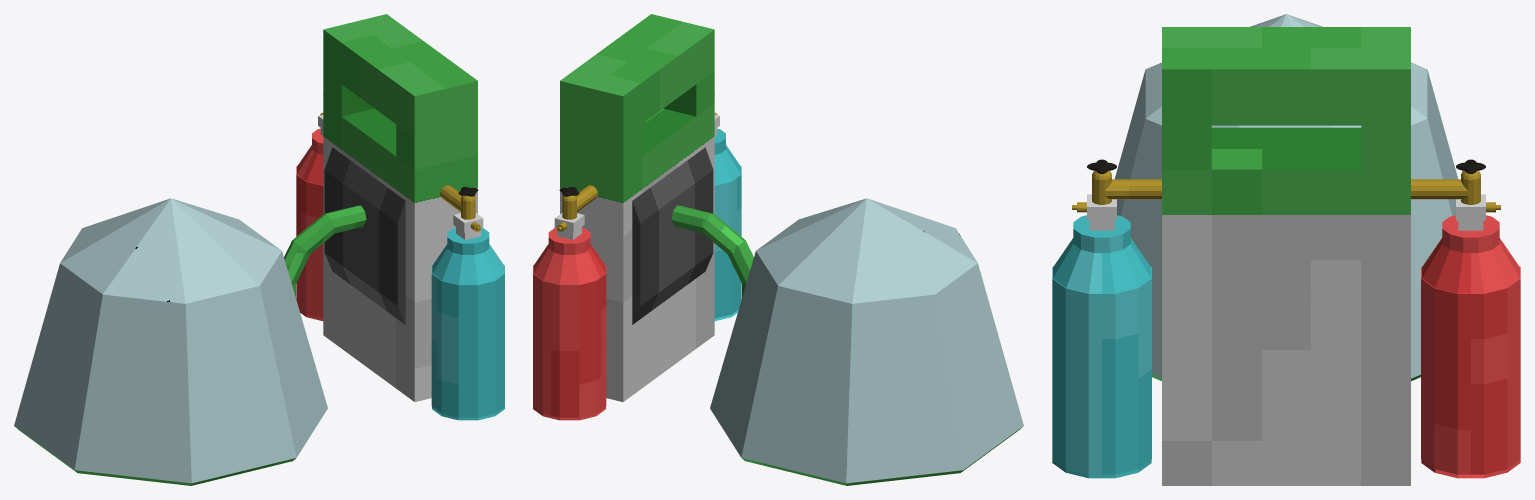
Rendered from oxygenRefill.fbx.
3 renders of one model, left to right at view 1: azimuth 30°, elevation 25°; view 2: azimuth 150°, elevation 25°; view 3: azimuth 270°, elevation 25°, orthographic. The views are drawn at different scales.
Visible parts, largest first — view 1: sphere_8, cuboid, cuboid_3, tube, cuboid_8, tube_1, cuboid_2, torus, sphere, cuboid_1, sphere_7, cylinder (+1 smaller); view 2: sphere_8, cuboid, cuboid_3, tube_1, cuboid_8, tube, cuboid_1, torus, sphere_7, cuboid_2, sphere, cylinder_6 (+1 smaller); view 3: cuboid, cuboid_3, tube, tube_1, sphere_8, sphere, sphere_7, cuboid_2, cuboid_1, cylinder, cylinder_6, cylinder_5 (+3 smaller).
Boxes of the visible parts, box(x1,y1,x2,y2) form: sphere_8: box(14, 198, 327, 483); cuboid: box(323, 103, 477, 401); cuboid_3: box(323, 14, 477, 137); tube: box(431, 265, 504, 417); cuboid_8: box(324, 147, 405, 324); tube_1: box(296, 166, 323, 318); cuboid_2: box(396, 121, 477, 169); torus: box(284, 205, 366, 297); sphere: box(432, 244, 504, 420); cuboid_1: box(323, 71, 374, 116); sphere_7: box(297, 145, 323, 320); cylinder: box(447, 227, 489, 254); sphere_8: box(710, 198, 1023, 483); cuboid: box(560, 103, 714, 401); cuboid_3: box(560, 14, 714, 137); tube_1: box(533, 265, 606, 417); cuboid_8: box(632, 147, 713, 324); tube: box(714, 166, 741, 318); cuboid_1: box(560, 121, 641, 169); torus: box(671, 205, 753, 297); sphere_7: box(533, 244, 605, 420); cuboid_2: box(663, 70, 714, 116); sphere: box(714, 145, 740, 320); cylinder_6: box(548, 227, 590, 254); cuboid: box(1162, 127, 1410, 485); cuboid_3: box(1162, 27, 1410, 125); tube: box(1052, 266, 1151, 474); tube_1: box(1421, 266, 1520, 474); sphere_8: box(1115, 14, 1457, 378); sphere: box(1052, 238, 1151, 478); sphere_7: box(1421, 238, 1520, 478); cuboid_2: box(1162, 124, 1211, 169); cuboid_1: box(1361, 124, 1410, 169); cylinder: box(1073, 215, 1130, 252); cylinder_6: box(1442, 215, 1499, 252); cylinder_5: box(1129, 179, 1161, 199).
Size of the model in its own units: 76.56 by 58.85 by 58.75.
5 materials, 5 textured.
